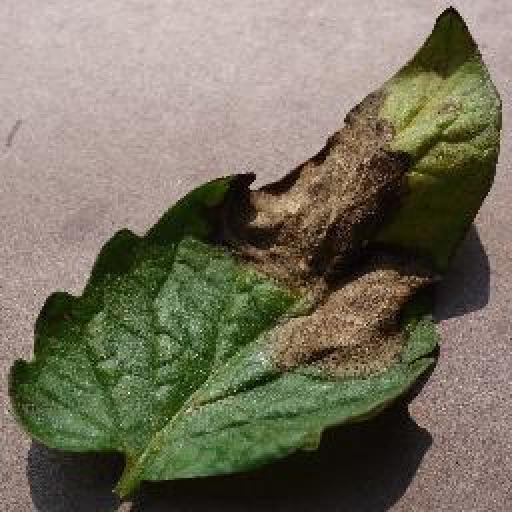Late Blight: (8, 4, 505, 481)
